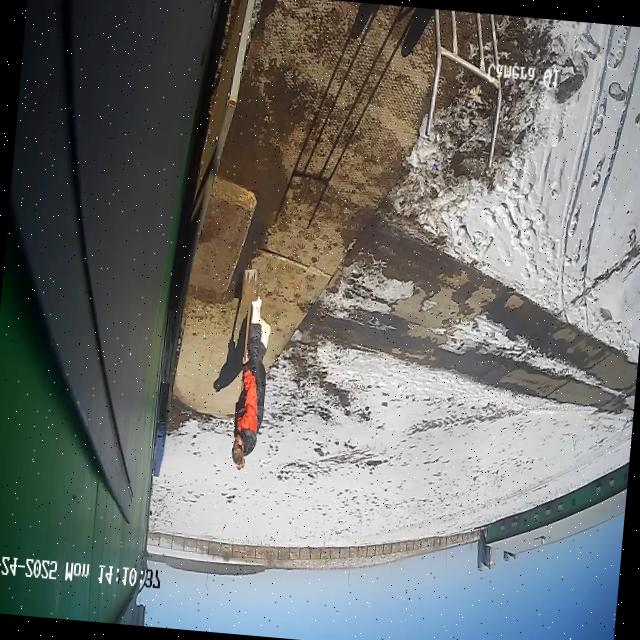Red uniform: (227, 292, 276, 472)
